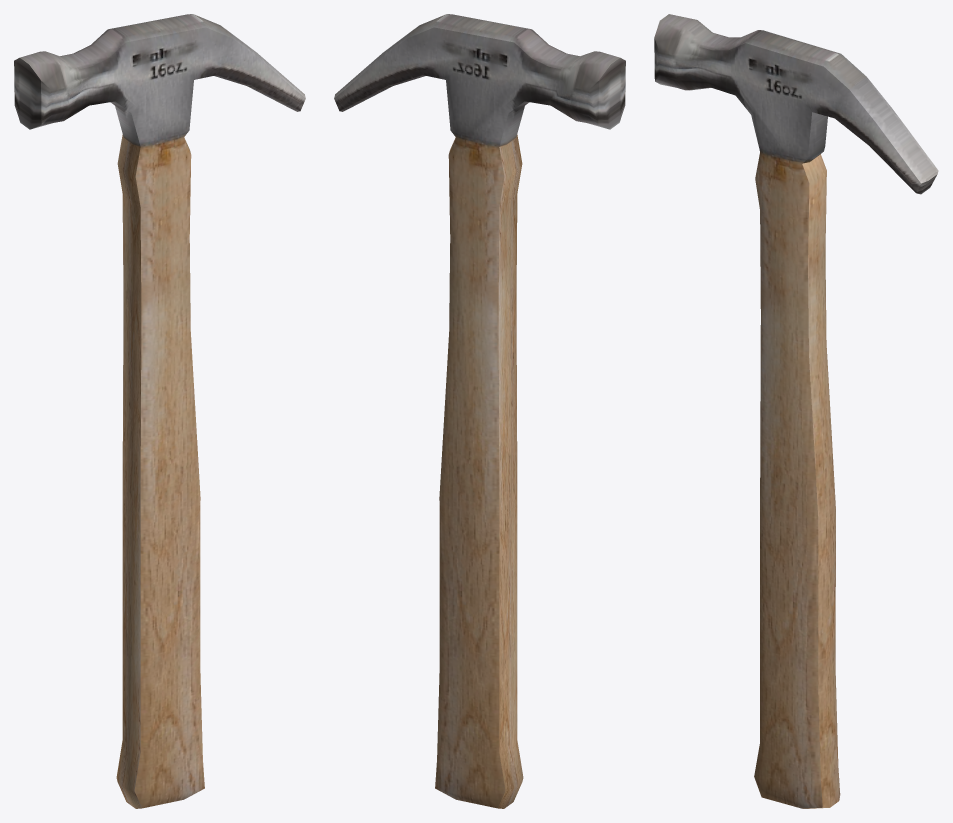
Rendered from Mesh_Hammer_1.fbx.
3 views of the same model, side by side, from view 1: azimuth 30°, elevation 25°; view 2: azimuth 150°, elevation 25°; view 3: azimuth 330°, elevation 25° (orthographic). The views are drawn at different scales.
Parts seen in each view (by area): view 1: Cube; view 2: Cube; view 3: Cube.
Part boxes in pixels (left/top/right/bottom): Cube: left=14, top=14, right=305, bottom=808; Cube: left=334, top=14, right=625, bottom=808; Cube: left=654, top=14, right=938, bottom=808.
Bounding box in the file's own units: 36.49 × 98.4 × 7.37.
Materials: 1 (1 with a texture image).
